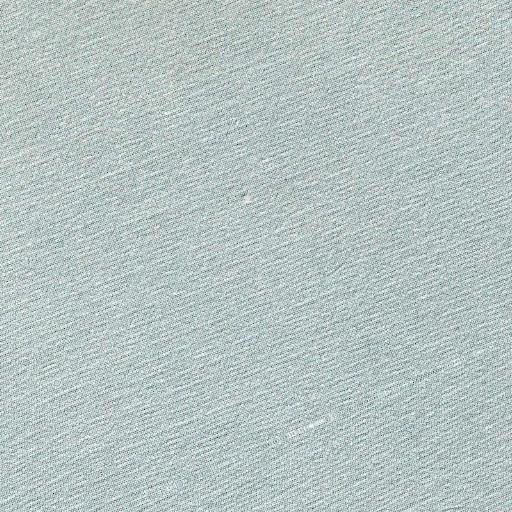knot: (231, 186, 260, 210)
